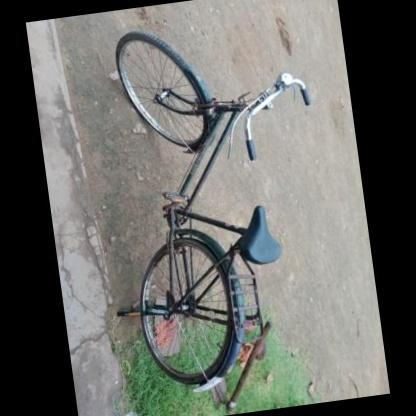Bicycle: (94, 19, 298, 413)
